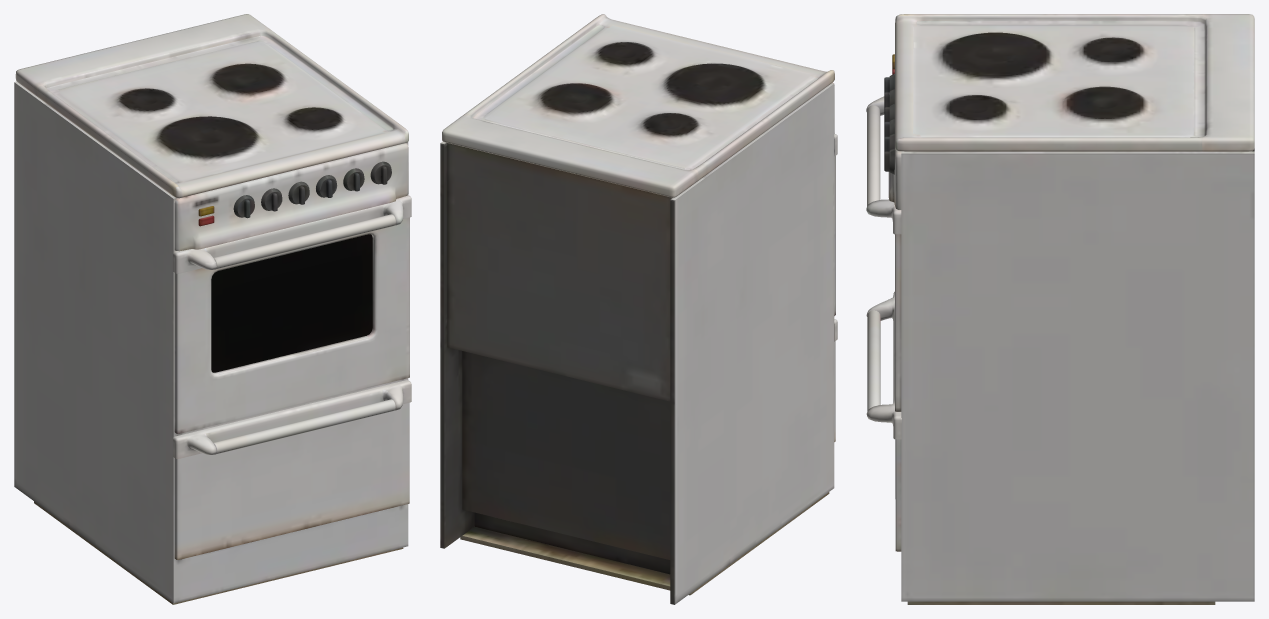
The model's file is electric_stove.glb.
3 renders of one model, left to right at view 1: azimuth 30°, elevation 25°; view 2: azimuth 150°, elevation 25°; view 3: azimuth 270°, elevation 25°, orthographic. The views are drawn at different scales.
Visible parts, largest first — view 1: stovetop, door_top, handle_bottom_attachment; view 2: stovetop; view 3: stovetop, door_top, handle_bottom_attachment.
Part boxes in pixels (x1,y1,x2,y2): stovetop: (14, 14, 408, 604); door_top: (173, 195, 411, 433); handle_bottom_attachment: (173, 380, 411, 559); stovetop: (440, 14, 834, 604); stovetop: (888, 14, 1254, 604); door_top: (866, 96, 901, 411); handle_bottom_attachment: (866, 291, 901, 551).
Size of the model in its own units: 0.5026 by 0.8587 by 0.6476.
2 materials, 2 textured.
